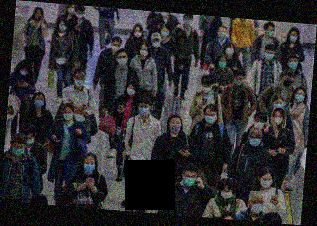with_mask: (182, 173, 197, 188), (247, 134, 262, 148), (249, 199, 263, 214), (81, 159, 95, 174), (258, 176, 273, 189), (10, 144, 26, 156), (219, 188, 233, 200), (168, 120, 180, 134), (203, 112, 216, 124), (116, 54, 128, 67), (137, 104, 149, 117), (61, 109, 73, 122), (73, 75, 84, 89), (282, 76, 294, 88), (294, 91, 306, 103), (124, 85, 136, 97), (253, 118, 264, 131), (33, 96, 44, 108), (272, 113, 282, 126), (23, 134, 33, 147), (288, 58, 298, 70), (272, 100, 284, 110), (17, 67, 29, 77), (217, 28, 226, 41), (264, 50, 275, 60), (224, 45, 234, 56), (233, 76, 244, 86), (201, 83, 211, 94), (217, 59, 227, 69), (151, 39, 161, 49), (139, 47, 149, 57), (110, 42, 120, 52), (289, 32, 298, 42), (182, 16, 191, 26), (133, 28, 142, 38), (57, 24, 68, 32), (159, 29, 169, 37), (74, 11, 84, 19), (67, 6, 75, 16), (267, 28, 275, 36)
without_mask: (33, 10, 41, 20)
